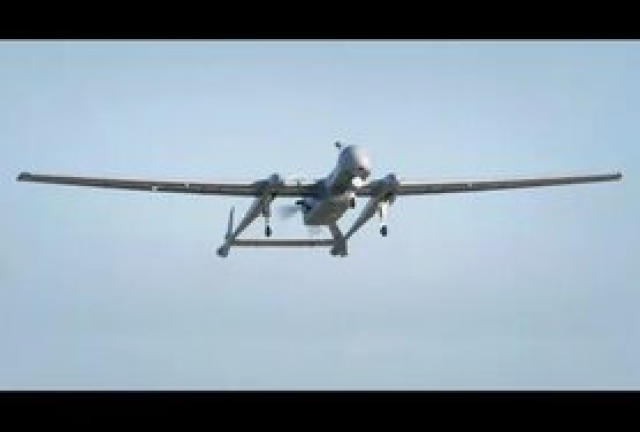military drone: (15, 140, 622, 258)
